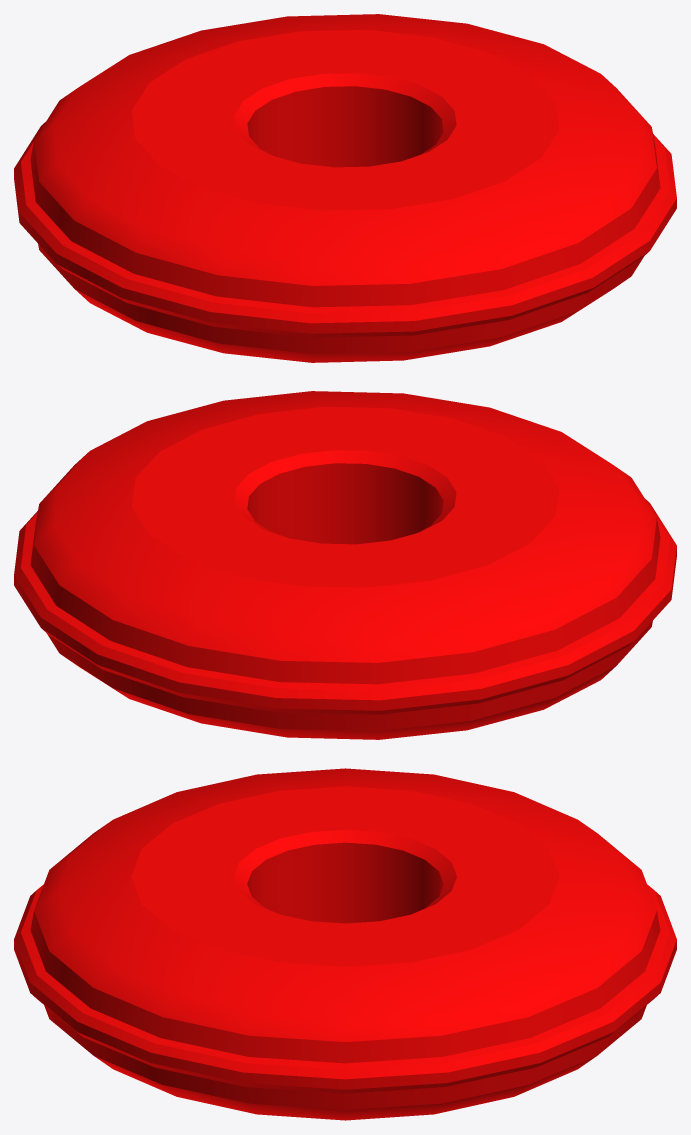
File: Ring 2.obj
3 renders of one model, top to bottom at view 1: azimuth 30°, elevation 25°; view 2: azimuth 150°, elevation 25°; view 3: azimuth 270°, elevation 25°, orthographic.
Visible parts, largest first — view 1: polySurface15 polySurface6; view 2: polySurface15 polySurface6; view 3: polySurface15 polySurface6.
Part boxes in pixels (box(x1,y1,x2,y2)): polySurface15 polySurface6: box(14, 14, 676, 362); polySurface15 polySurface6: box(14, 391, 676, 739); polySurface15 polySurface6: box(14, 768, 676, 1120).
Bounding box in the file's own units: 2.19 × 0.4951 × 2.19.
